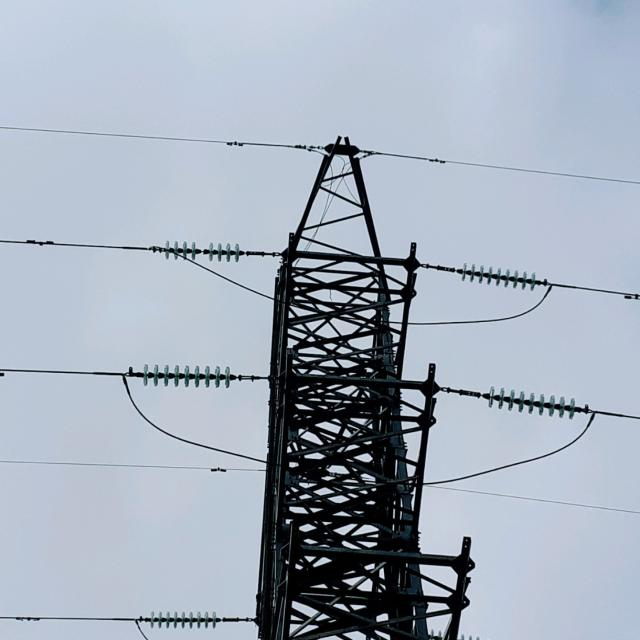杆塔: (253, 130, 474, 640)
正常绝缘子: (478, 382, 592, 422), (135, 357, 241, 393), (150, 235, 248, 268), (460, 258, 543, 292), (137, 606, 231, 633)
绝缘子破损: (198, 248, 205, 255)
